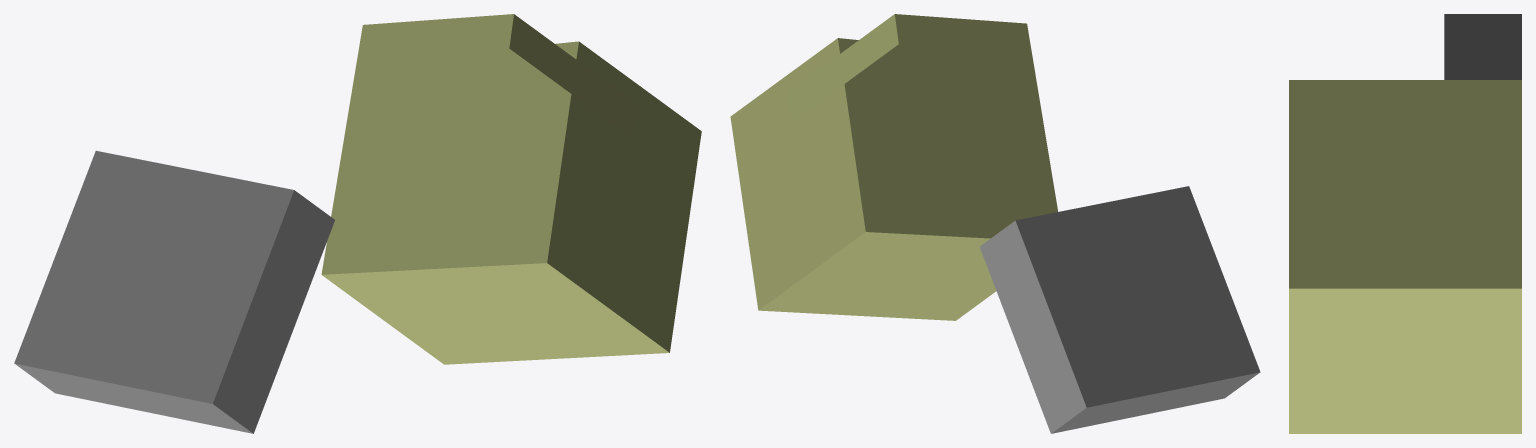
3 views of the same model, side by side, from view 1: azimuth 30°, elevation 25°; view 2: azimuth 150°, elevation 25°; view 3: azimuth 270°, elevation 25° (orthographic). The views are drawn at different scales.
Parts seen in each view (by area): view 1: 0_3_1_3_0_0_3_0_2_3; view 2: 0_3_1_3_0_0_3_0_2_3; view 3: 0_3_1_3_0_0_3_0_2_3.
Boxes of the visible parts, x1,y1,x2,y2 form: 0_3_1_3_0_0_3_0_2_3: (14, 14, 701, 433); 0_3_1_3_0_0_3_0_2_3: (730, 14, 1260, 433); 0_3_1_3_0_0_3_0_2_3: (1289, 14, 1521, 433).
Bounding box in the file's own units: 23.91 × 13.85 × 9.
